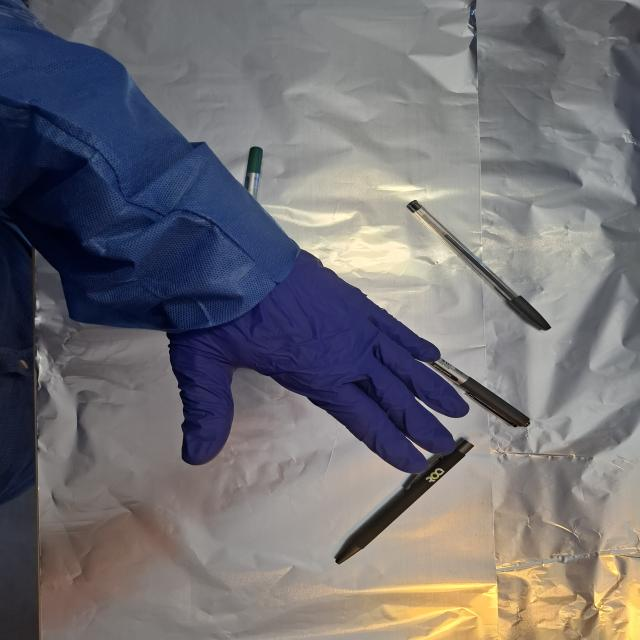glove_on: (162, 246, 472, 477)
